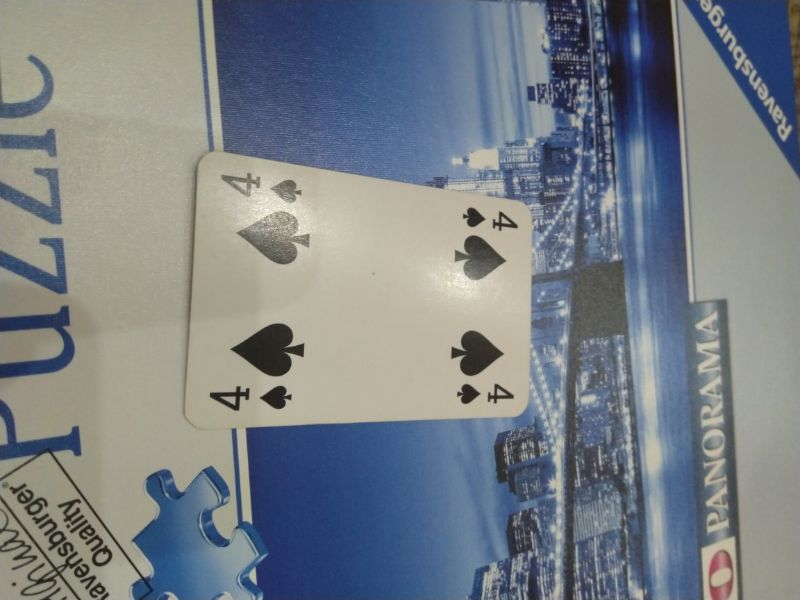4s: (216, 166, 308, 207), (206, 383, 296, 414), (458, 203, 521, 235), (453, 380, 518, 407)
